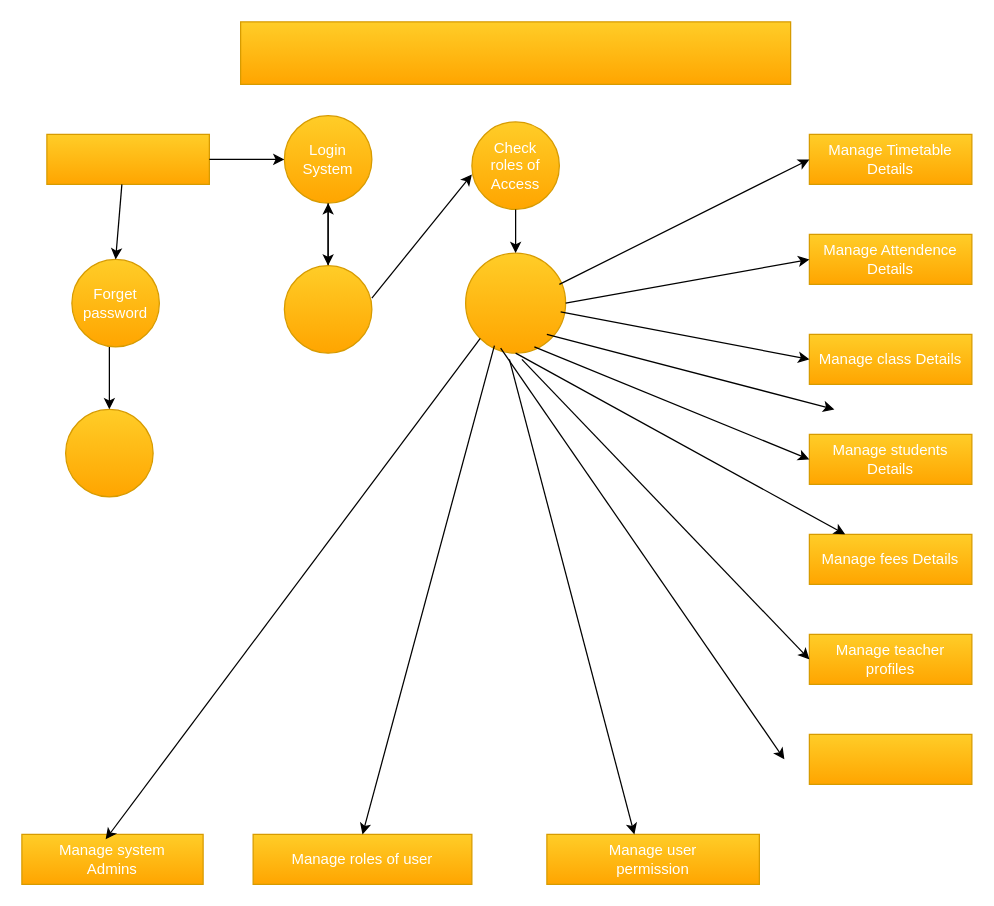
The diagram is 994 pixels wide and 906 high, and some of its shapes have lost their labels. The box of each missing label's shape, as (x1, y1, x2, y2) in pixels:
Admin: (46, 133, 209, 184)
Check Credentials: (283, 264, 372, 353)
Manage Modules: (464, 252, 566, 353)
Manage report: (808, 733, 972, 784)
Send email to user: (64, 408, 153, 497)
Student Information System: (239, 21, 791, 84)
